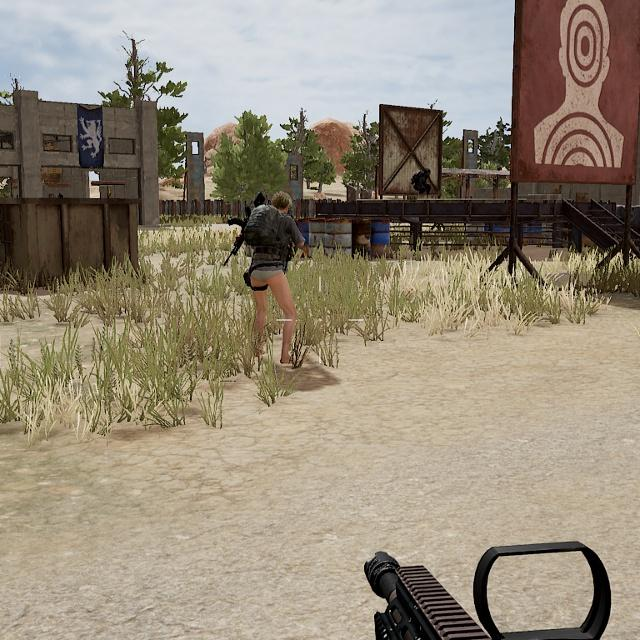head: (268, 186, 297, 222)
people: (232, 185, 315, 367)
